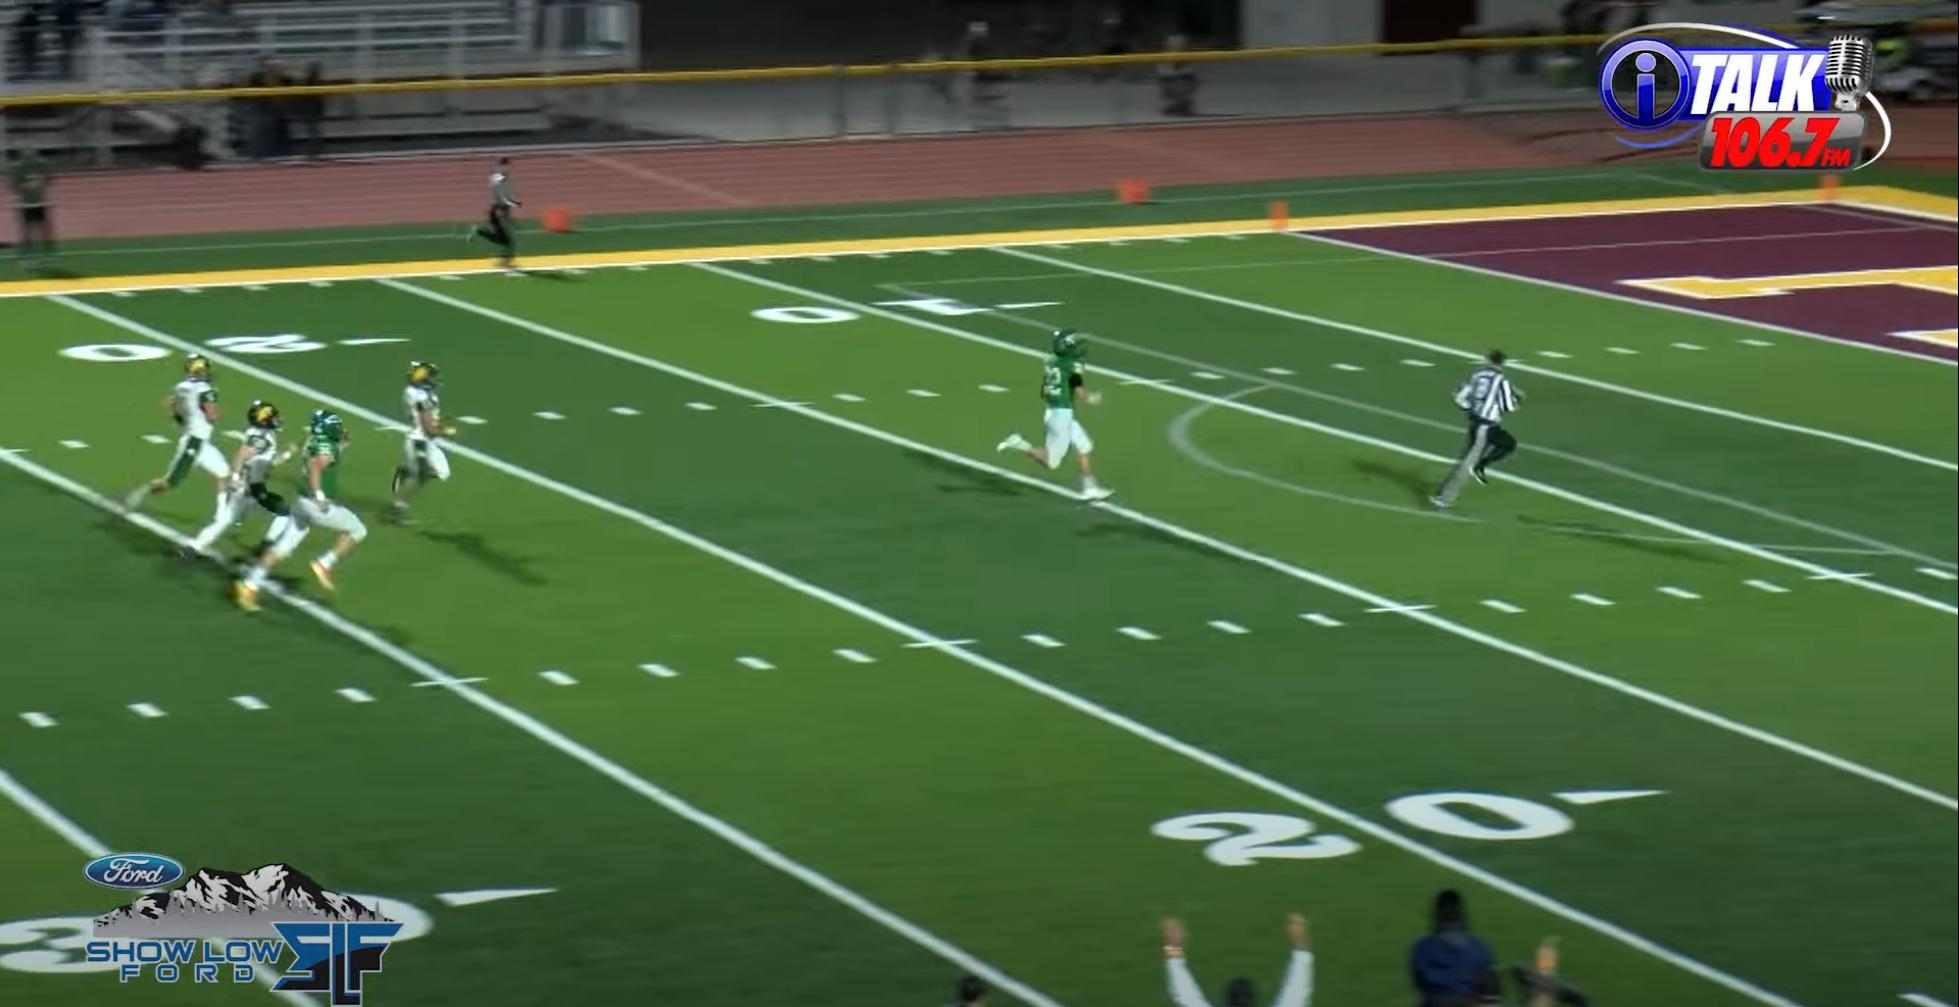10R: (748, 297, 1068, 326)
20R: (1148, 784, 1673, 864), (58, 330, 410, 365)
30R: (0, 882, 560, 977)
